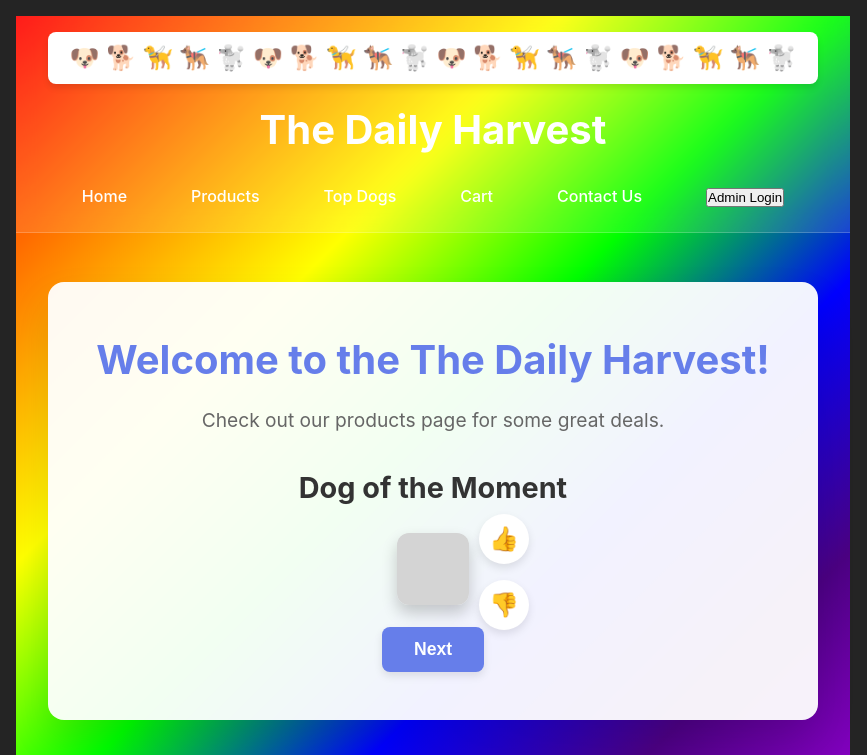
HomePage › should display happy emoji when thumbs up is clicked
What coordinates should you click on to do the following:
click the button named "thumbs up"
I would click on:
 (504, 540)
Its box is [479, 514, 529, 564].
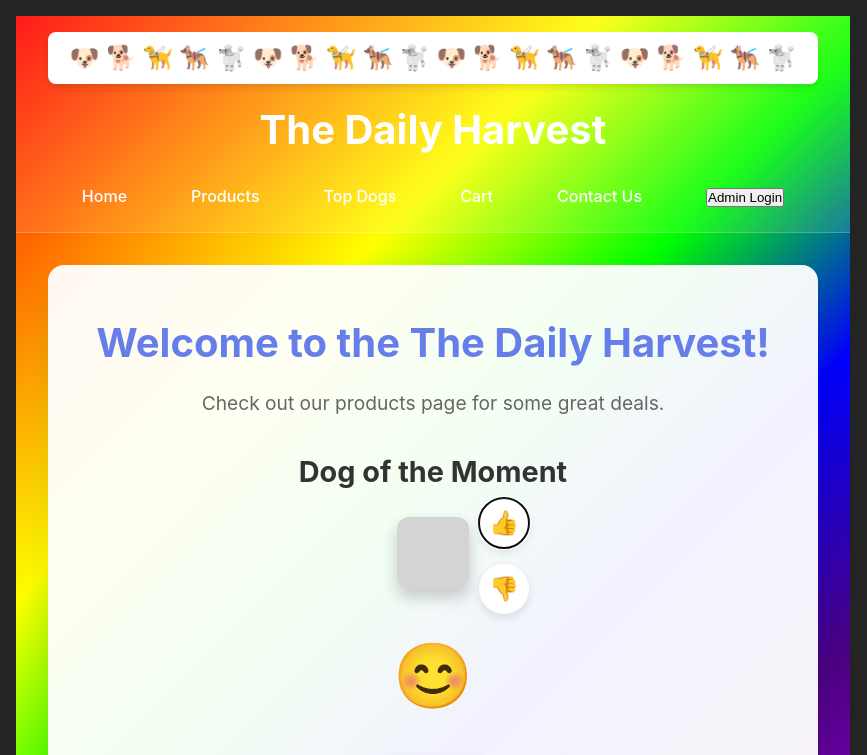
Now the text with test id "emoji-display" reads "😊", box [393, 636, 473, 713]
